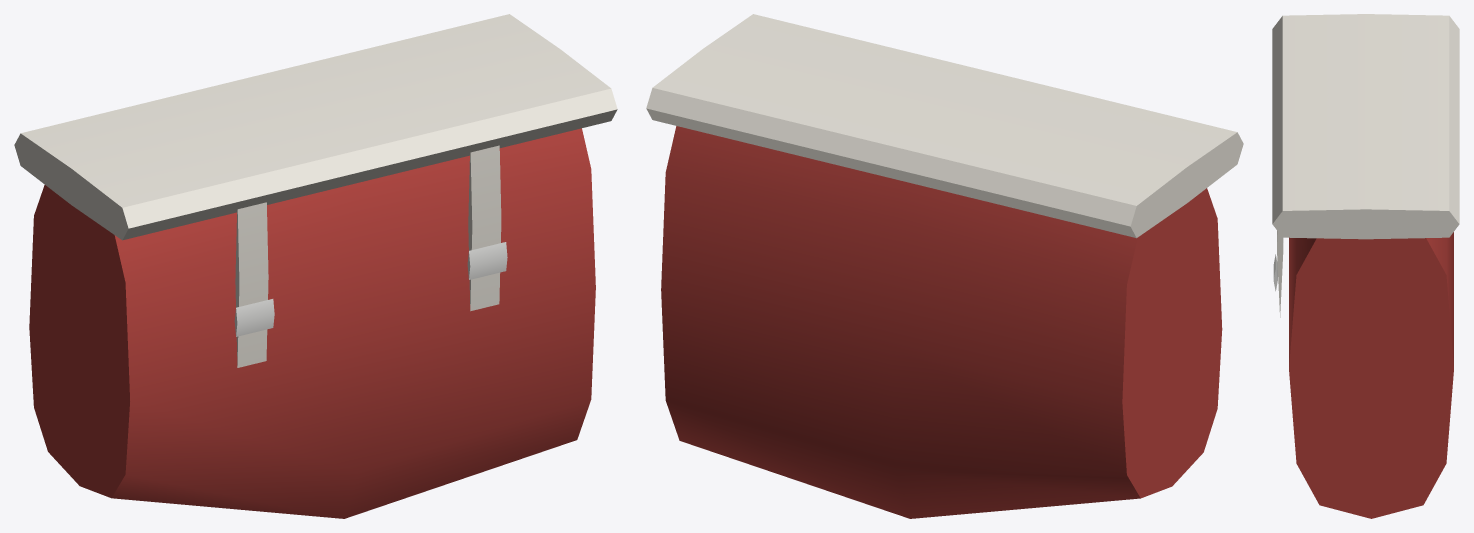
Rendered from saddlebag_lod1.glb.
The picture shows the model from 3 angles, left to right: view 1: azimuth 30°, elevation 25°; view 2: azimuth 150°, elevation 25°; view 3: azimuth 270°, elevation 25°; orthographic projection. The views are drawn at different scales.
Visible parts, largest first — view 1: saddlebag_lod1; view 2: saddlebag_lod1; view 3: saddlebag_lod1.
Part boxes in pixels (x1=…): saddlebag_lod1: x1=14, y1=14, x2=617, y2=518; saddlebag_lod1: x1=646, y1=14, x2=1243, y2=518; saddlebag_lod1: x1=1272, y1=14, x2=1459, y2=518.
Bounding box in the file's own units: 0.42 × 0.335 × 0.17.
